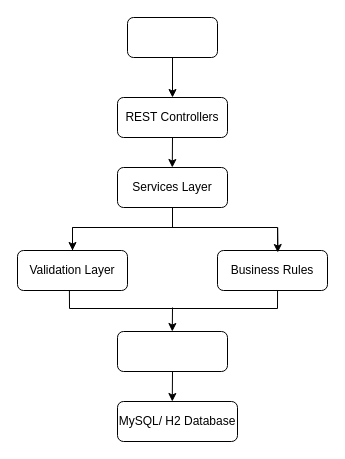
Image size: 345x459. Some labels were removed from this diagram. The centre of each missing label's shape, as x and y in pixels:
"Client" goes at pixel 172 37.
"JPARepository" goes at pixel 172 351.
